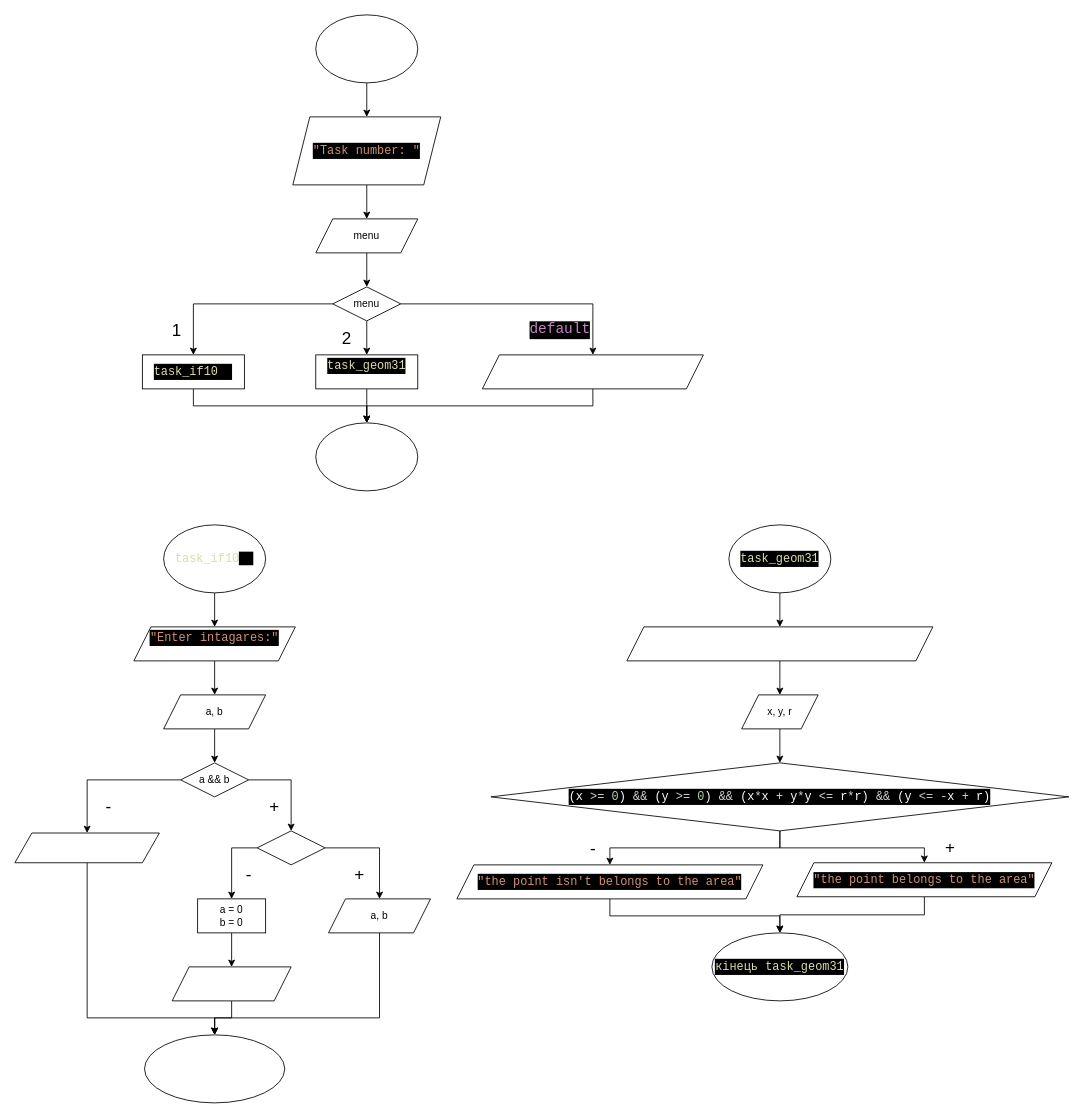
This 1084x1118 diagram has some shape labels left out. Here are the shapes that lost their labels. From the top down, the box of each, then its label:
(315, 14, 418, 83): Початок
(482, 354, 703, 389): "Wrong task (only 1 or 2)"
(315, 422, 418, 491): Кінець
(626, 626, 933, 661): "Enter x and y your point, and radius:"
(14, 832, 159, 863): "Wrong Integer"
(256, 830, 325, 865): a != b
(171, 966, 291, 1001): "A and B: 0"
(144, 1034, 285, 1103): кінець task_if10 ()
